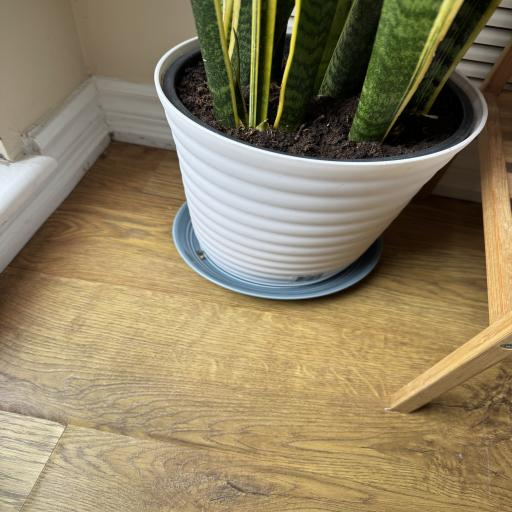Plant Pot: (148, 26, 489, 282)
